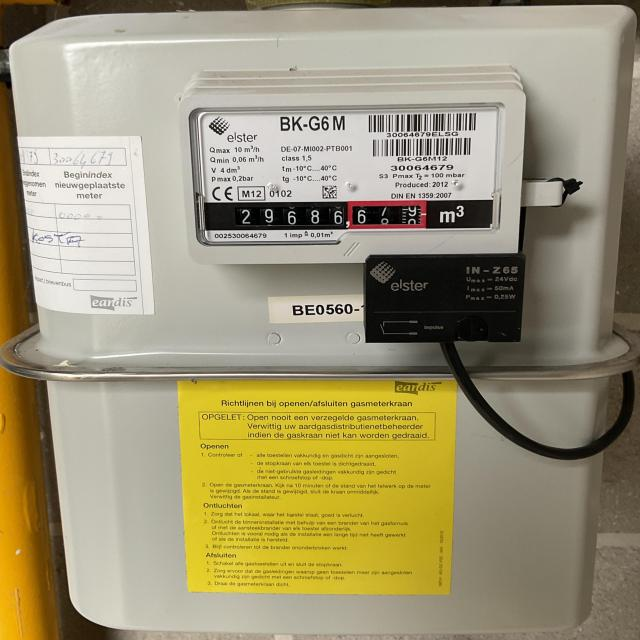gaz_meter: (190, 108, 503, 235)
indication: (227, 198, 436, 232)
